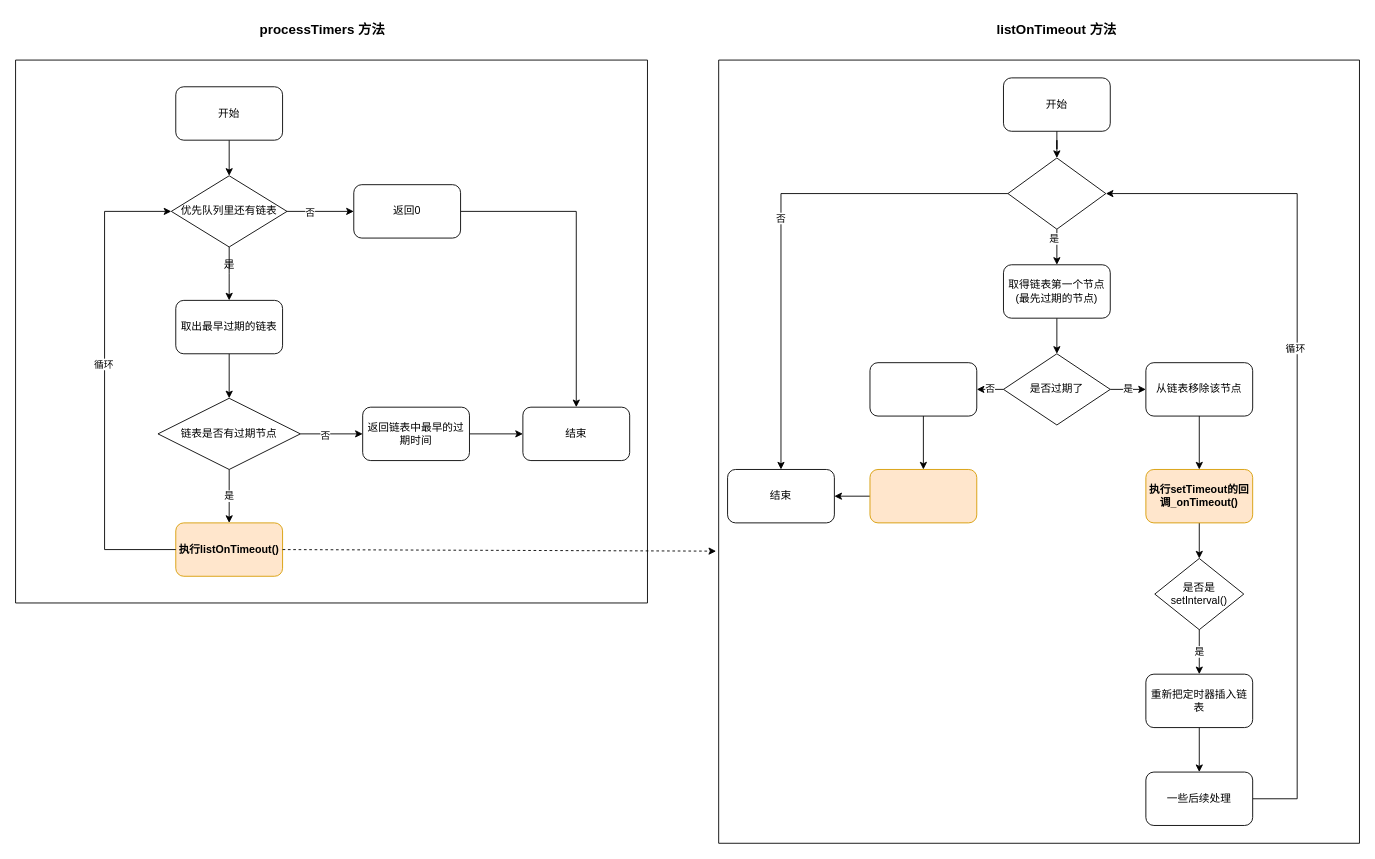
Image size: 1375x859. Some labels were removed from this diagram. Each missing label, with the box of its shape:
更新链表最近超时时间: (869, 362, 977, 416)
重排列优先队列: (869, 469, 977, 523)
链表中是否有Timeout节点: (1007, 157, 1106, 229)
